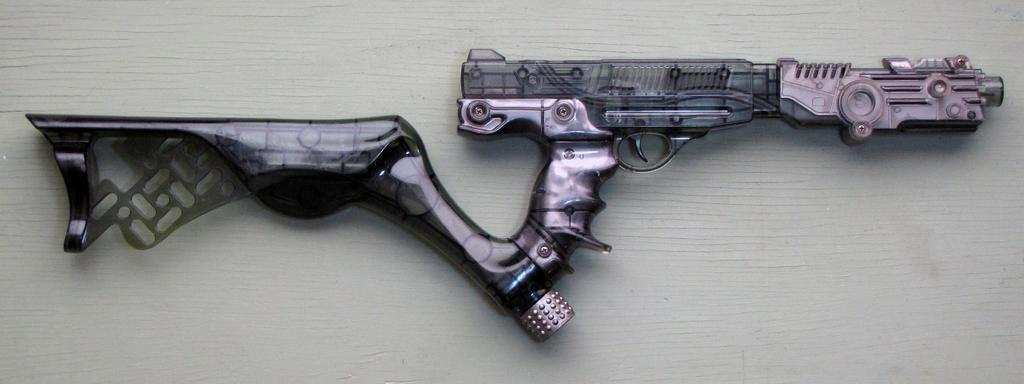Rifle: (33, 29, 1024, 346)
